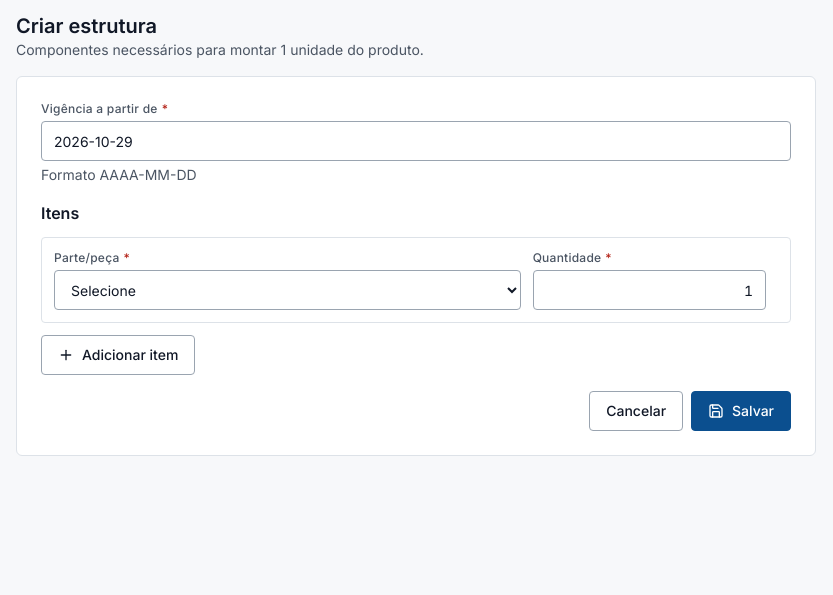
it: NovaEstruturaProduto › rejeita a mesma peca em dois itens sem enviar a requisicao
The width and height of the screenshot is (833, 595).
Check: the heading "Criar estrutura" is shown, box [16,14,157,38]
Replace the text in the field labelled "Vigência a partir de*" with "2026-09-01". click: (416, 141)
box: [41,121,791,161]
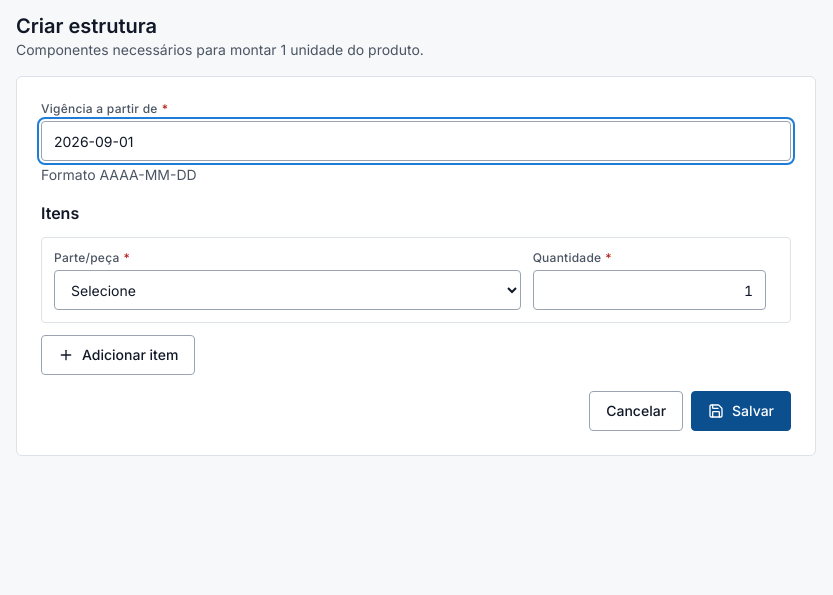
Select "RES-10K — Resistor" in the dropdown labelled "Parte/peça*". click: (287, 290)
box: [54,270,521,310]
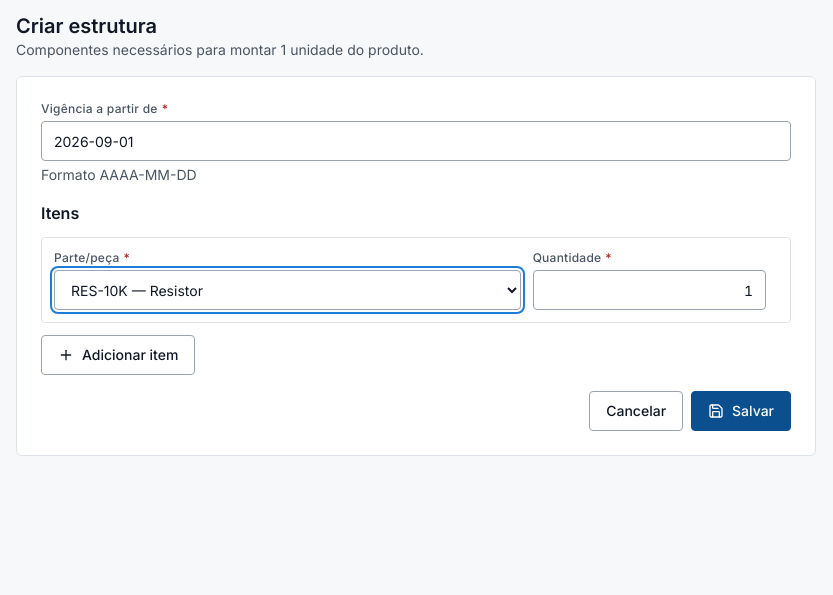
Click the button "Adicionar item". click: (118, 355)
box: [41,335,195,375]
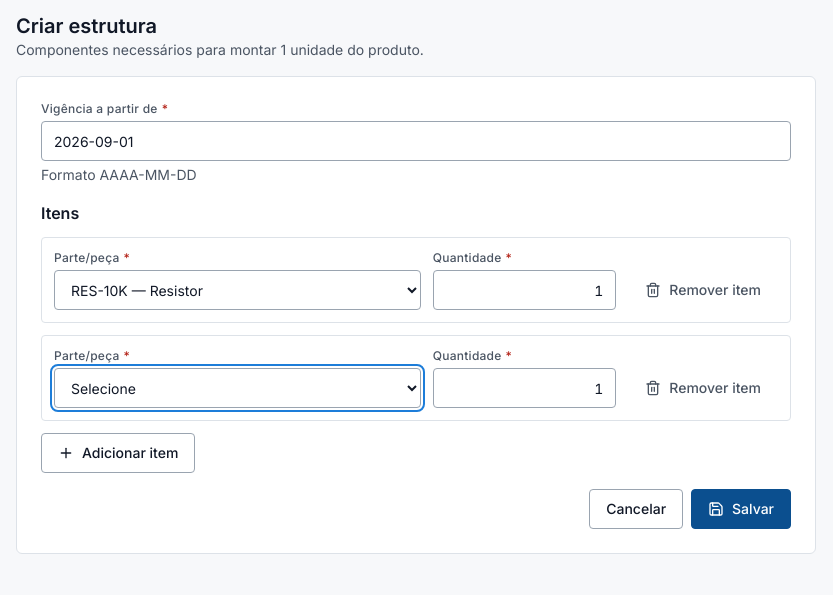
Select "RES-10K — Resistor" in the 2nd dropdown labelled "Parte/peça*". click: (237, 388)
box: [54,368,421,408]
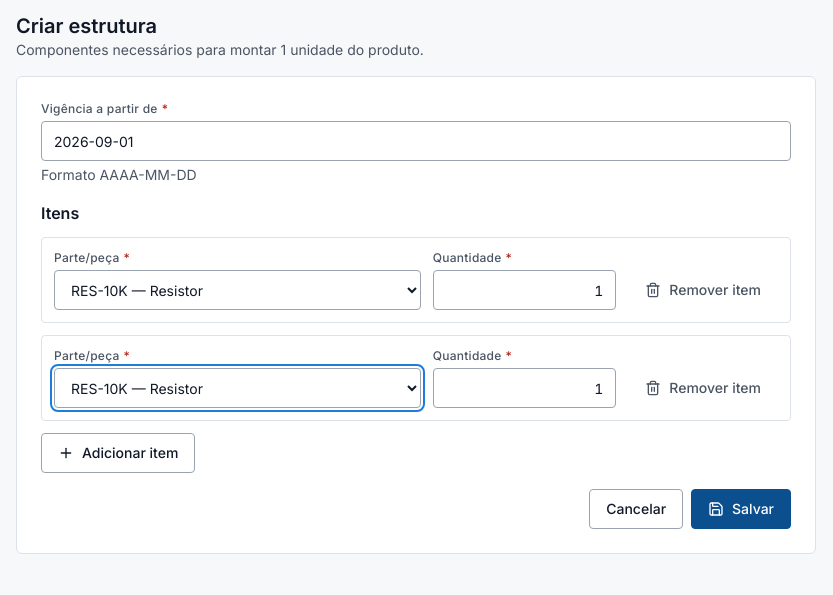
Click the button "Salvar". click: (741, 509)
box: [691,489,791,529]
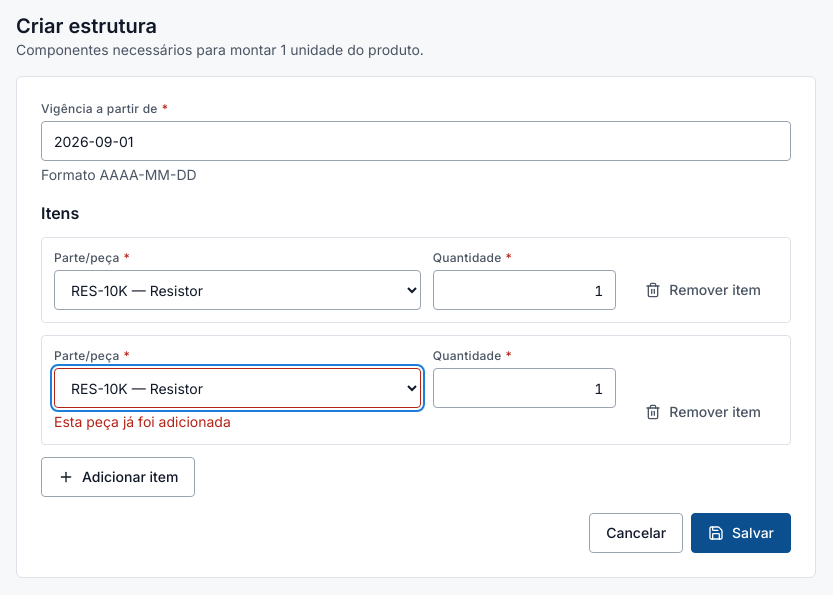
Check: the text "Esta peça já foi adicionada" is shown, box [54,413,231,430]
